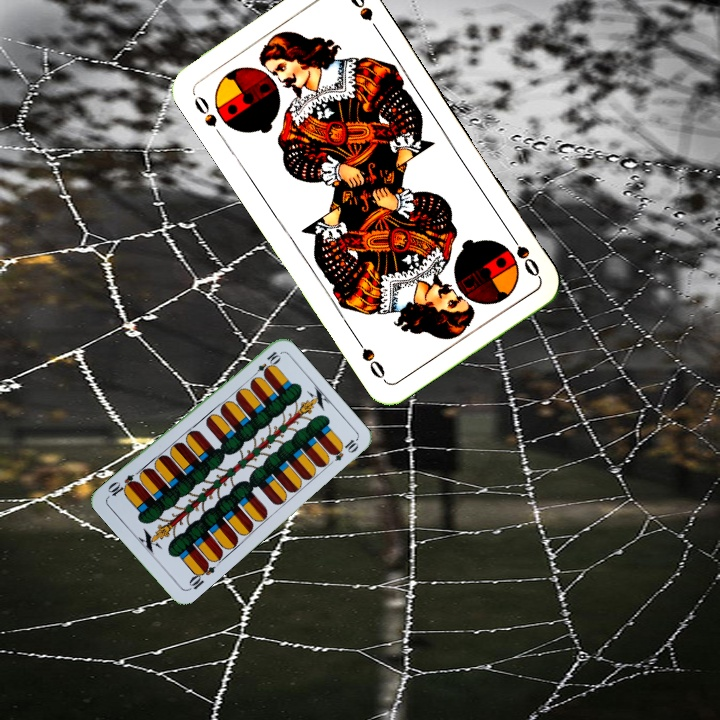E10: (248, 347, 283, 381), (184, 558, 218, 593)
SO: (504, 227, 543, 280), (189, 89, 226, 142)
